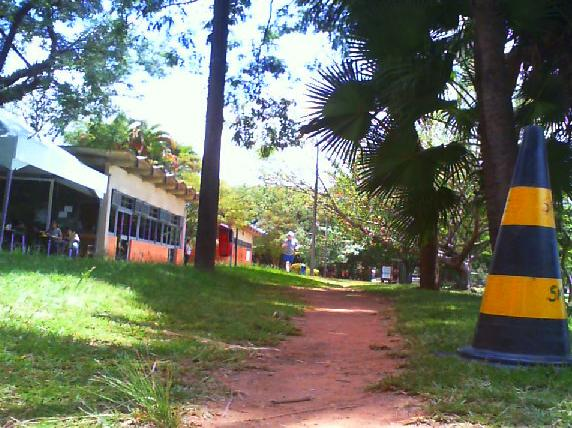0 cone: (431, 126, 572, 370)
